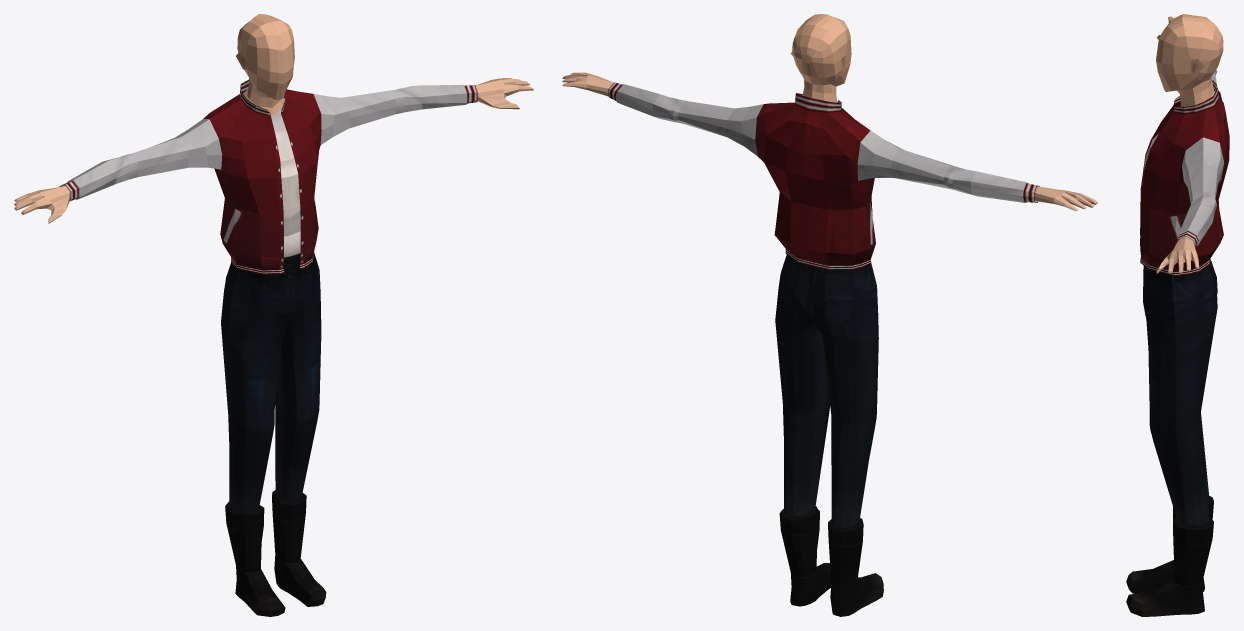
File: HS_Chara_MESH [OLD].fbx
3 renders of one model, left to right at view 1: azimuth 30°, elevation 25°; view 2: azimuth 150°, elevation 25°; view 3: azimuth 270°, elevation 25°, orthographic. The views are drawn at different scales.
Visible parts, largest first — view 1: Character_old_mesh; view 2: Character_old_mesh; view 3: Character_old_mesh.
Part boxes in pixels (x1=…): Character_old_mesh: x1=14, y1=14, x2=533, y2=616; Character_old_mesh: x1=562, y1=14, x2=1097, y2=616; Character_old_mesh: x1=1126, y1=14, x2=1229, y2=616.
Size of the model in its own units: 164 by 174 by 28.09.
1 material, 1 textured.
